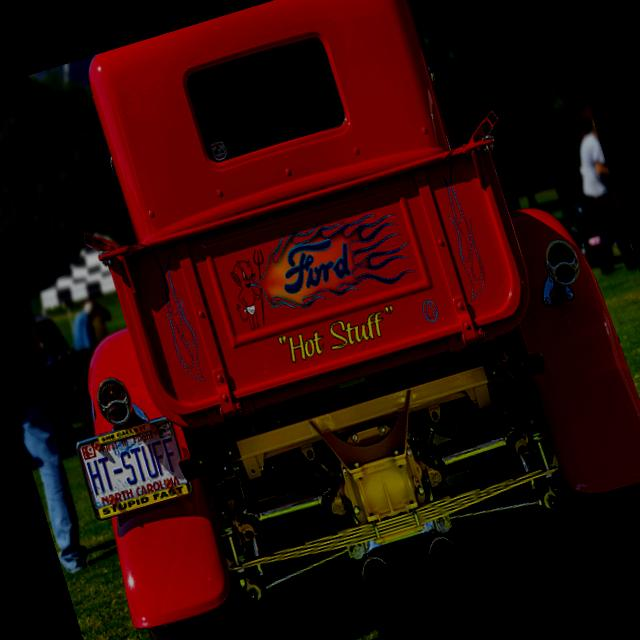Vehicle: (0, 0, 640, 640), (533, 95, 638, 281)
